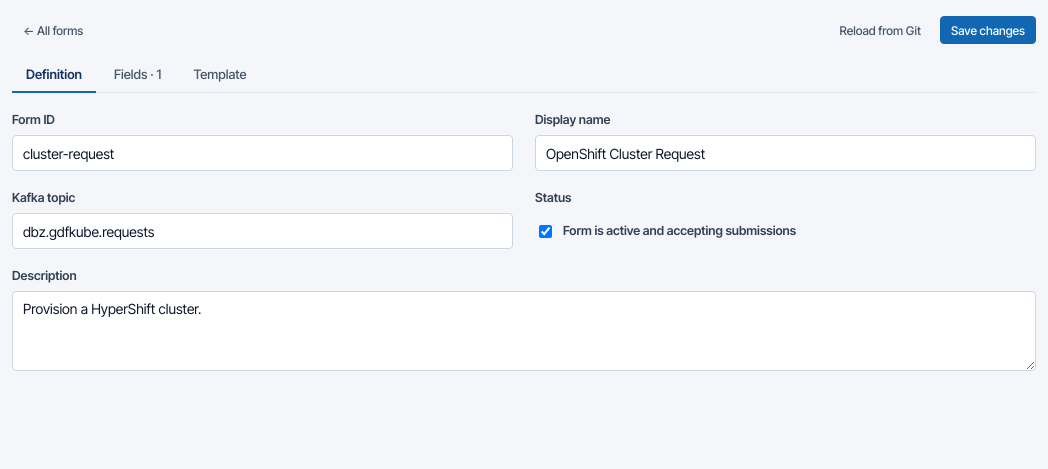
Test case: FormEditor › switching to the Fields sub-tab renders the fields table
The width and height of the screenshot is (1048, 469).
Click the tab "Fields · 1" at (138, 76), box [100, 58, 175, 93]
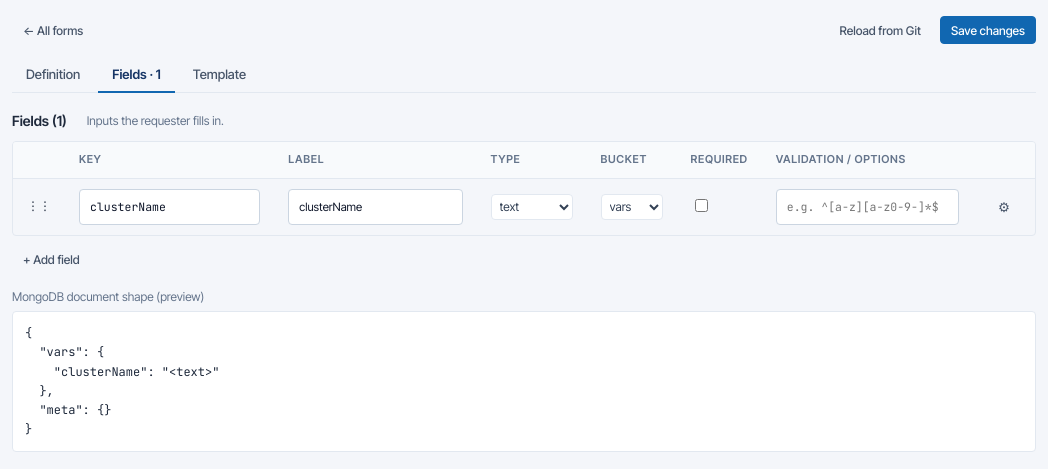
expect the table with test id "fields-table" that starts with "Key" is shown: met, box [13, 142, 1035, 235]
expect the row with test id "field-row-clusterName" is shown: met, box [13, 178, 1035, 235]
